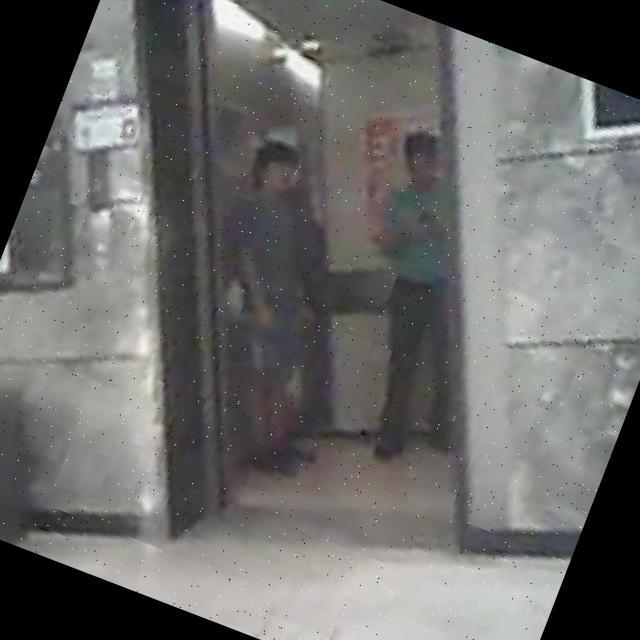person: (278, 114, 588, 495), (146, 126, 407, 478)
